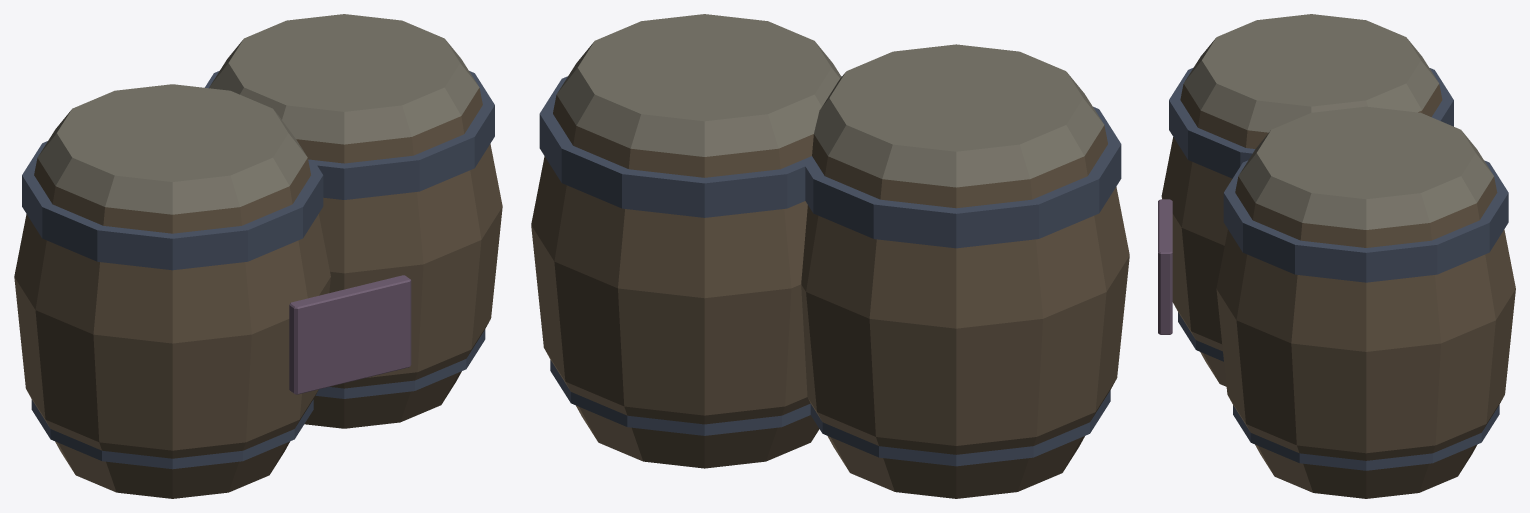
Rendered from powder-kegs.glb.
3 views of the same model, side by side, from view 1: azimuth 30°, elevation 25°; view 2: azimuth 150°, elevation 25°; view 3: azimuth 270°, elevation 25° (orthographic). The views are drawn at different scales.
Parts seen in each view (by area): view 1: powder-kegs__body; view 2: powder-kegs__body; view 3: powder-kegs__body.
Boxes of the visible parts, x1,y1,x2,y2 form: powder-kegs__body: [14, 14, 502, 498]; powder-kegs__body: [531, 14, 1129, 498]; powder-kegs__body: [1158, 14, 1515, 498].
Size of the model in its own units: 1.42 by 0.91 by 0.98.
